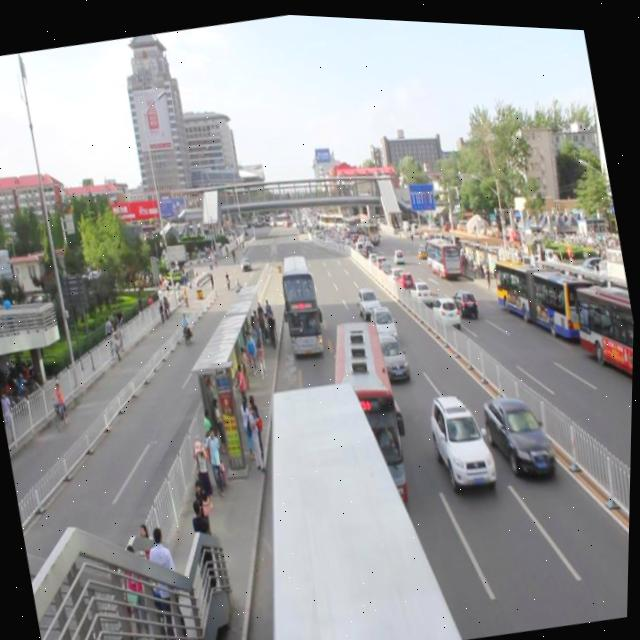car: (423, 380, 504, 498), (479, 380, 566, 484), (373, 325, 416, 383), (364, 296, 403, 344), (353, 281, 385, 319)
van: (219, 352, 473, 640), (314, 309, 426, 517), (272, 247, 331, 357)
